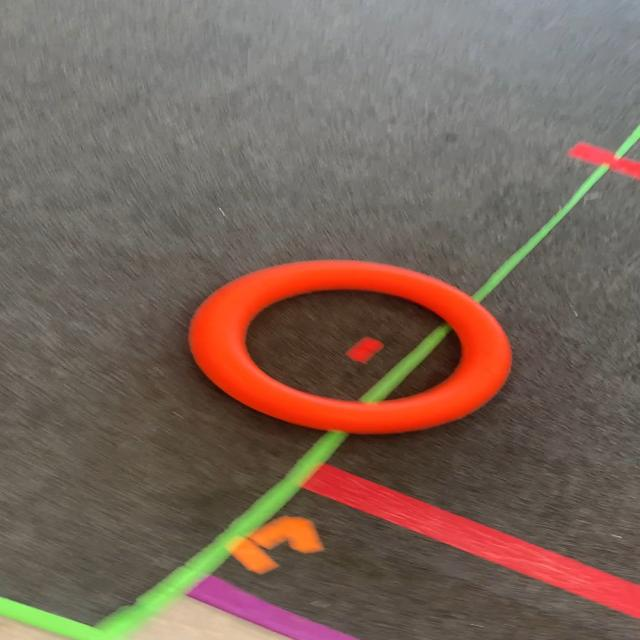notes: (186, 257, 518, 436)
